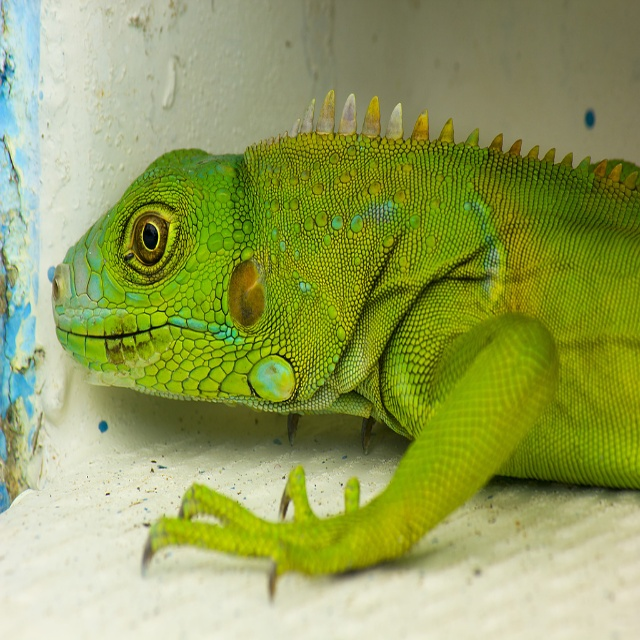Lizard: (51, 89, 640, 601)
